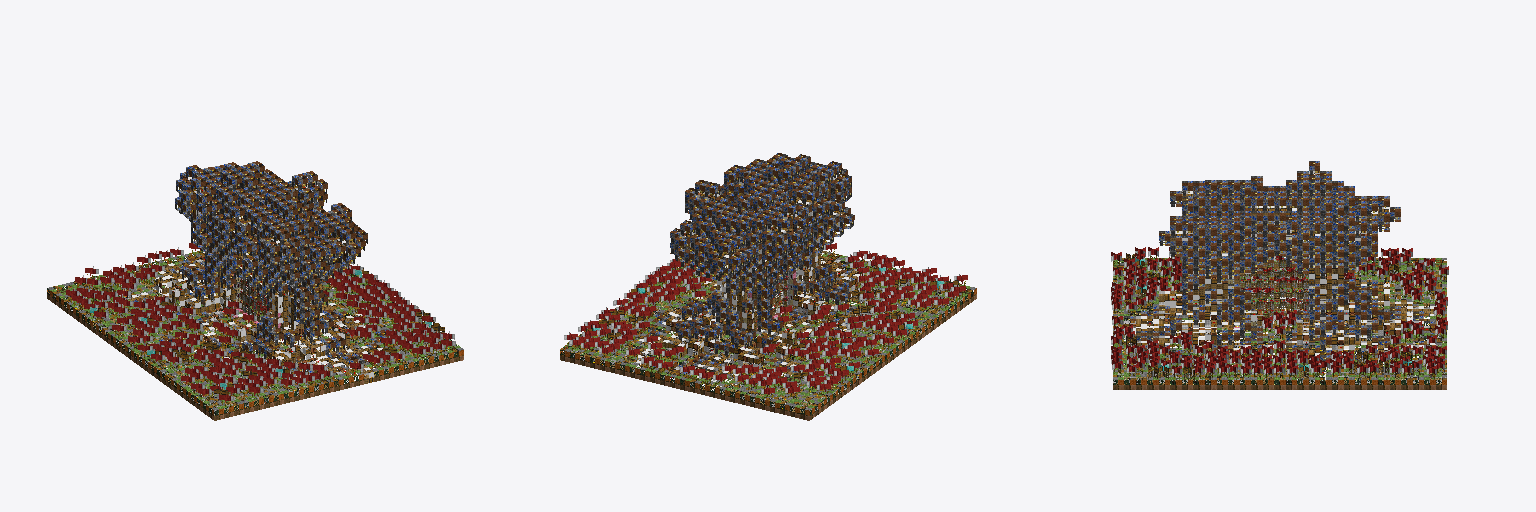
3 renders of one model, left to right at view 1: azimuth 30°, elevation 25°; view 2: azimuth 150°, elevation 25°; view 3: azimuth 270°, elevation 25°, orthographic.
Parts seen in each view (by area): view 1: tree-portal.schematic__-44_0_-40_to_143_255_111; view 2: tree-portal.schematic__-44_0_-40_to_143_255_111; view 3: tree-portal.schematic__-44_0_-40_to_143_255_111.
Boxes of the visible parts, x1=… form: tree-portal.schematic__-44_0_-40_to_143_255_111: x1=47, y1=161, x2=463, y2=420; tree-portal.schematic__-44_0_-40_to_143_255_111: x1=560, y1=153, x2=976, y2=420; tree-portal.schematic__-44_0_-40_to_143_255_111: x1=1111, y1=161, x2=1448, y2=389.
Size of the model in its own units: 1.8 by 1 by 2.09.
Materials: 10 (1 with a texture image).